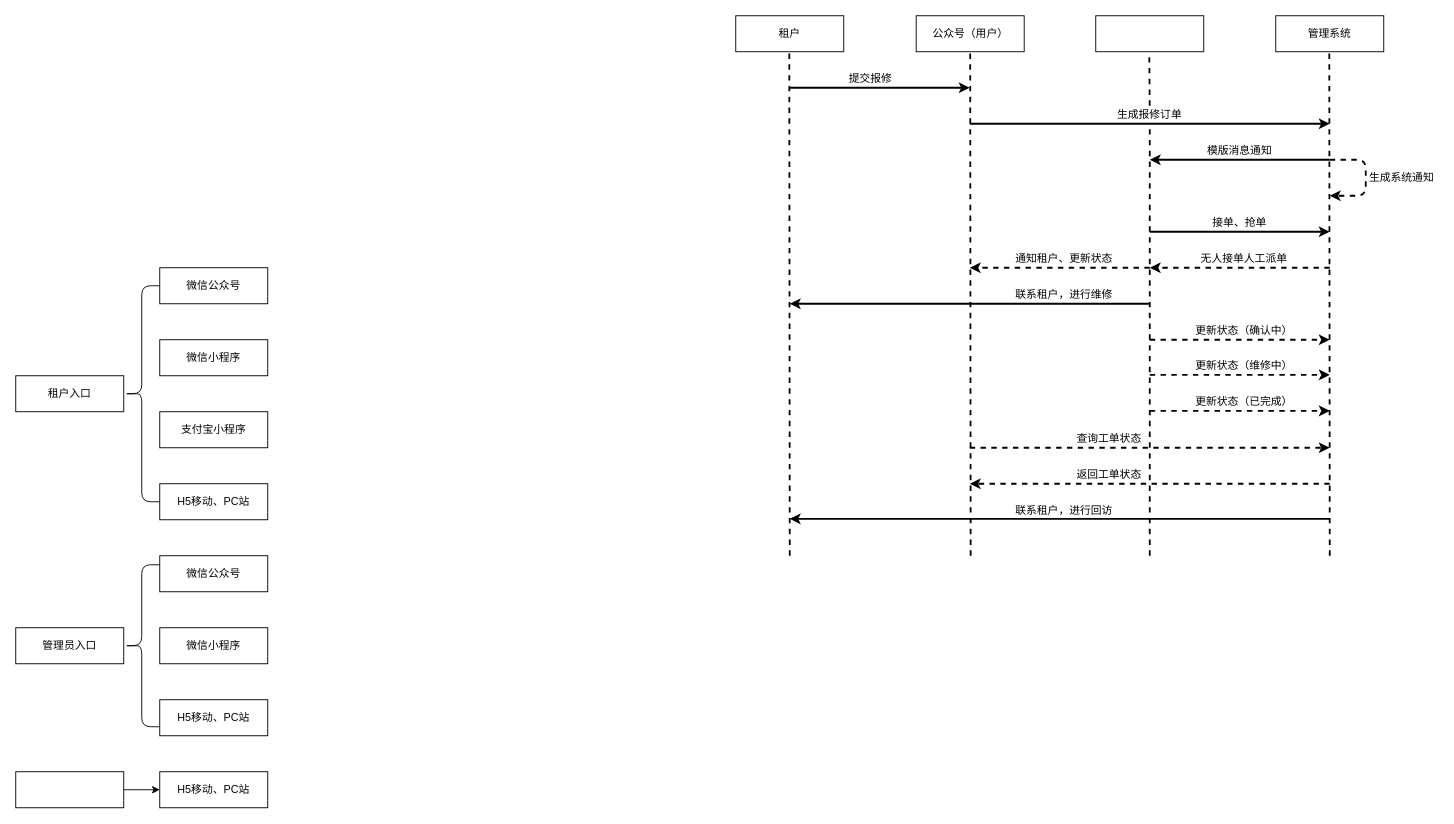
This 1454x824 diagram has some shape labels left out. Here are the shapes that lost their labels. From the top down, the centre of each, then its label:
(x=1149, y=33): 公众号（维修工）
(x=69, y=789): 管理端后台入口
